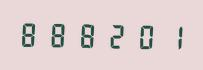eight: (17, 18, 44, 49), (45, 19, 72, 49), (74, 19, 101, 49)
one: (158, 20, 185, 51)
two: (102, 20, 129, 50)
zero: (130, 20, 157, 50)
